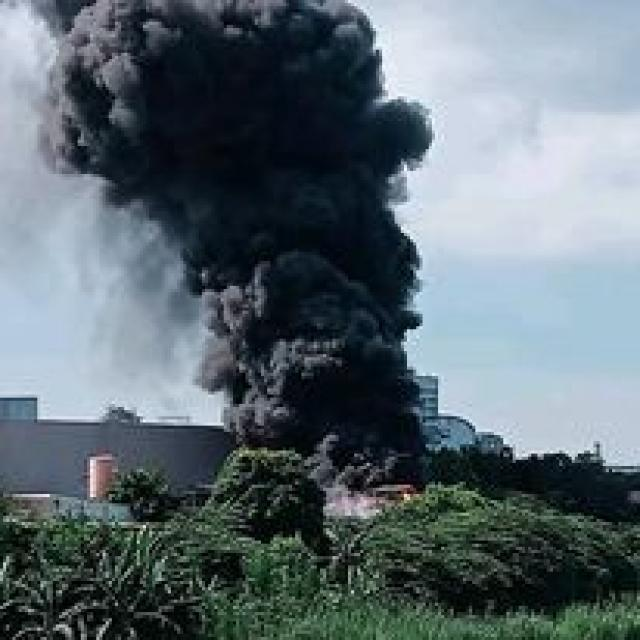Smoke: (18, 3, 424, 191), (164, 170, 417, 406), (235, 391, 416, 458)
